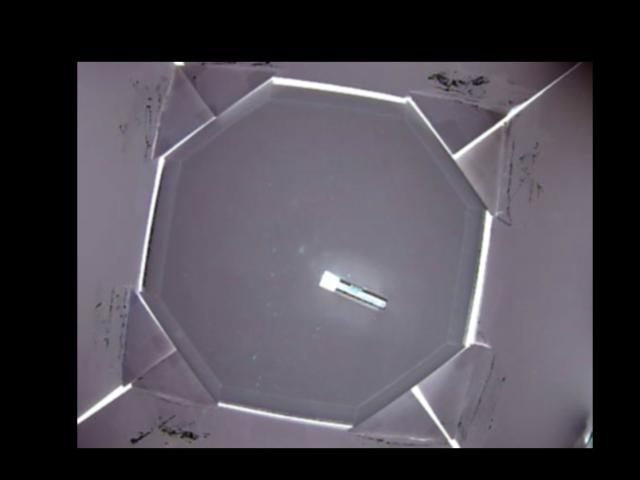Battery: (316, 269, 388, 311)
